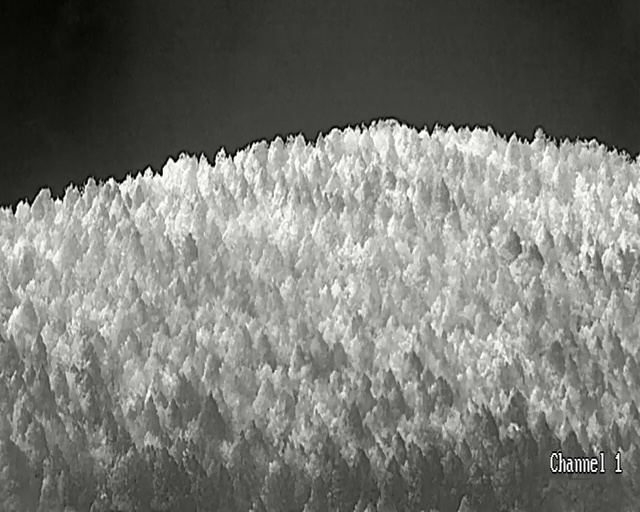uav: (418, 138, 422, 141)
